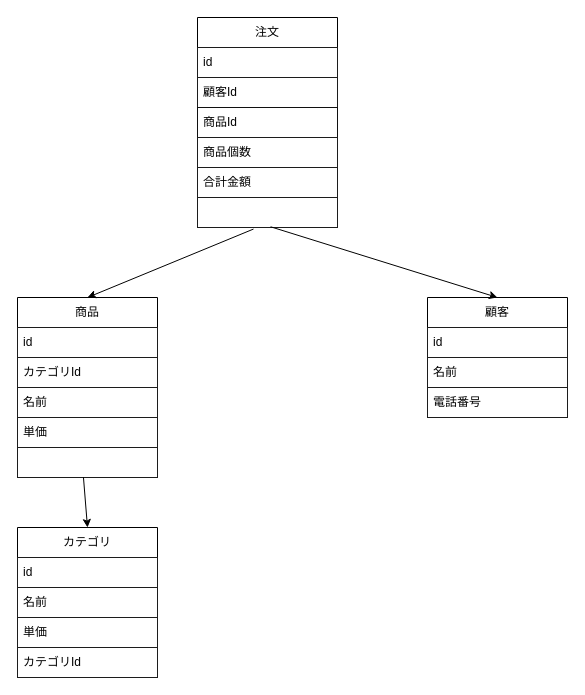
Image size: 585x695. Some labels were removed from this diagram. Each missing label, with the centre of its shape:
ステータス: [87,462]
注文日付: [267,212]
